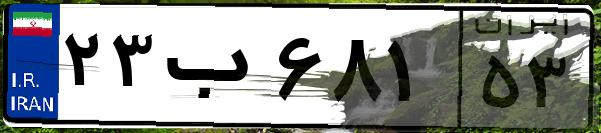1: (385, 28, 445, 110)
2: (57, 26, 110, 100)
3: (525, 38, 570, 115), (110, 28, 158, 98)
5: (475, 38, 525, 113)
6: (270, 28, 330, 110)
8: (330, 28, 385, 110)
ب: (158, 20, 270, 120)
